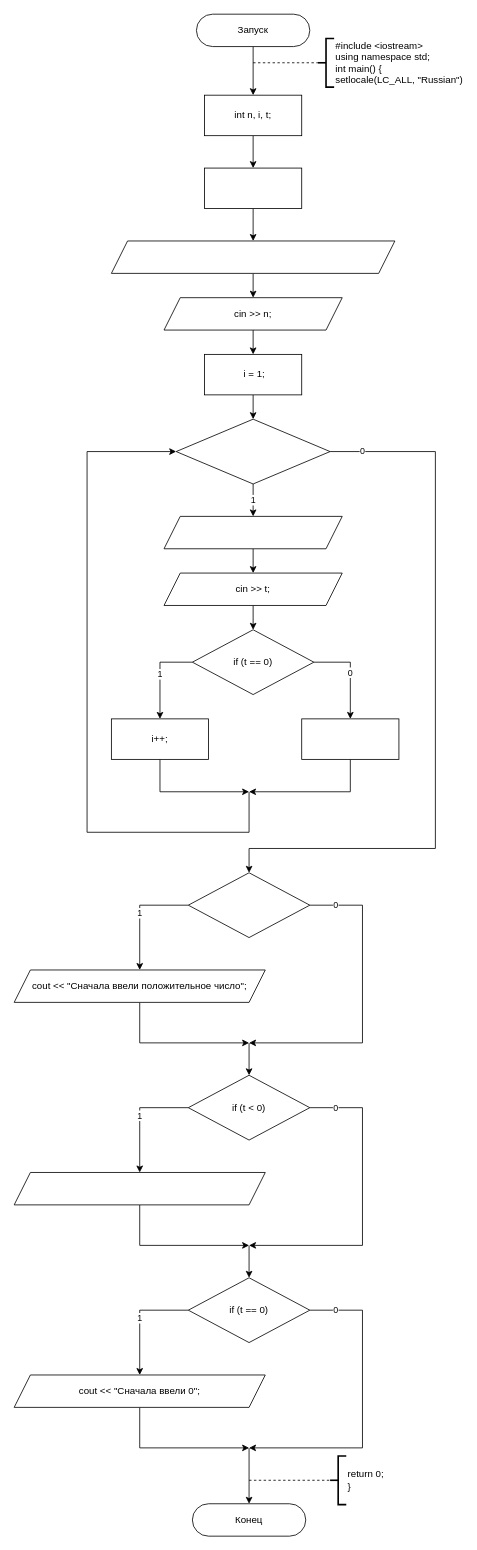
The diagram is 477 pixels wide and 1550 high, and some of its shapes have lost their labels. Here are the shapes that lost their labels. From the top down, the centre of each, then its label:
point (253, 188): bool answer = false;
point (253, 256): cout << "Введите длину последовательности:" << endl;
point (252, 451): while (i <= n && !answer)
point (252, 532): cout << "Введите число:" << endl;
point (350, 738): answer = true;
point (249, 905): if (t > 0)
point (139, 1188): cout << "Сначала ввели отрицательное число";
